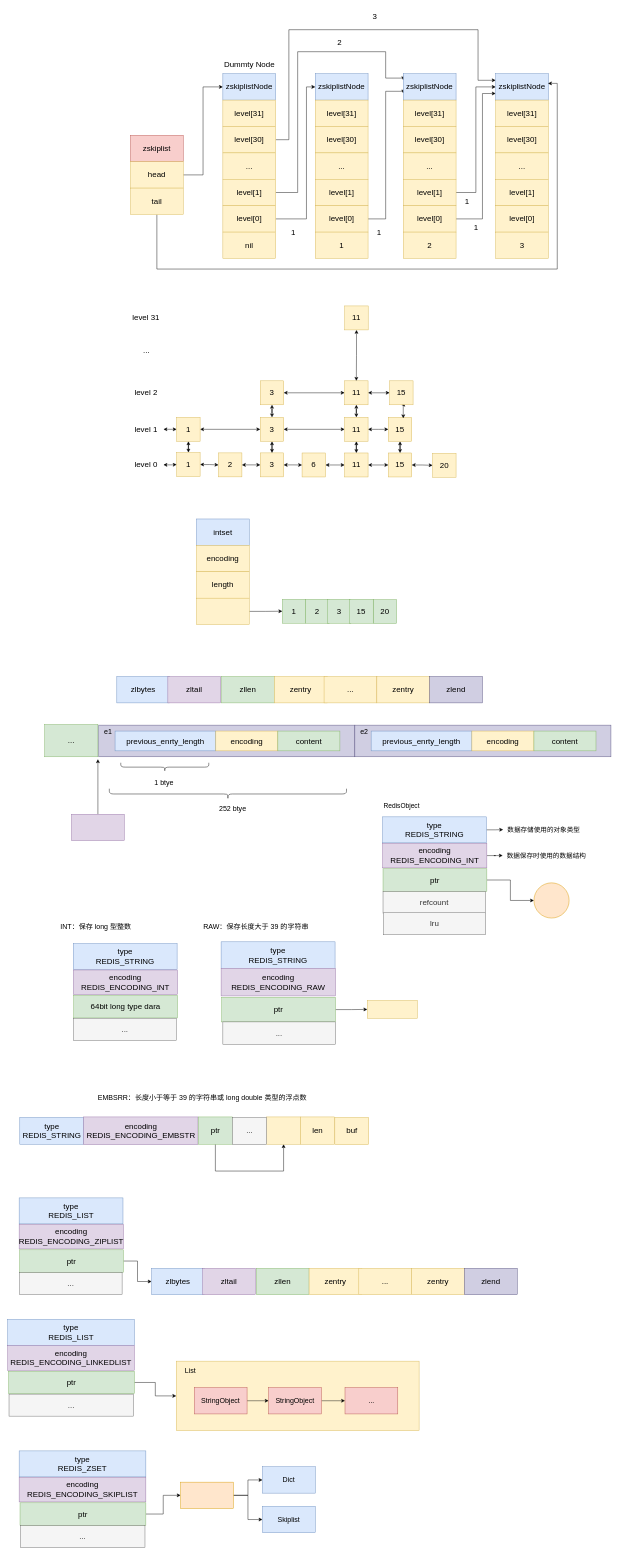
Image size: 619x1555. Some labels were removed from this diagram. Each missing label, with the box of its shape:
260 byte: (71, 814, 124, 841)
contents: (196, 598, 249, 625)
free: (266, 1116, 301, 1144)
SDS: (367, 1000, 417, 1018)
zset: (180, 1482, 233, 1509)
数据: (534, 882, 569, 918)
